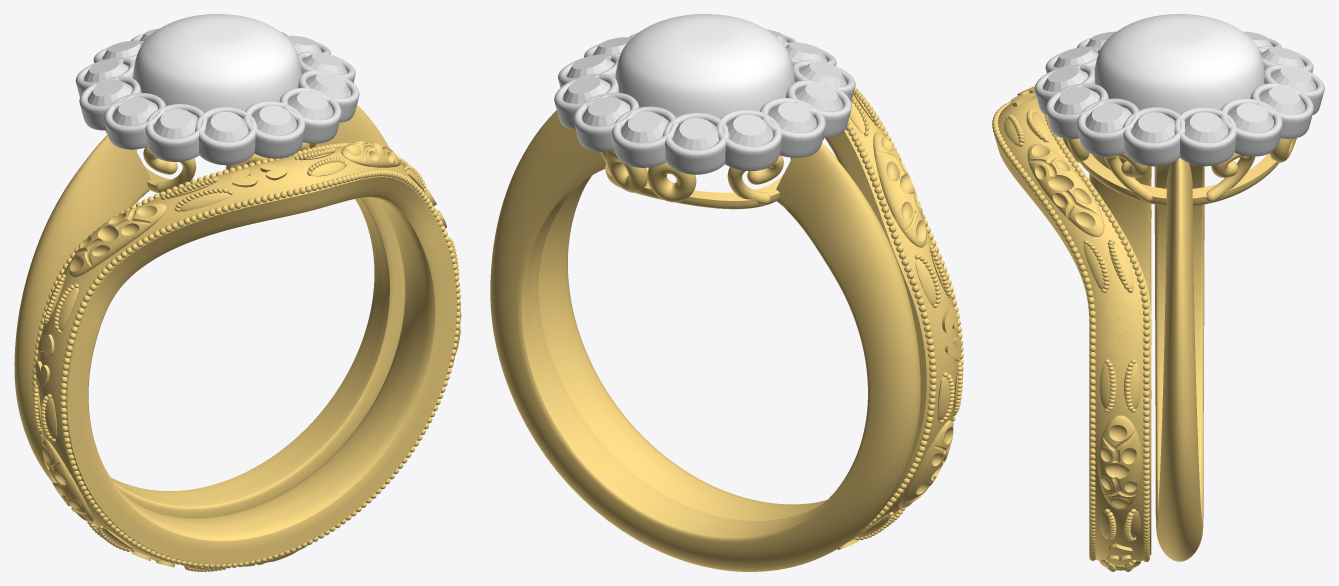
File: SarahWBnewpattern.glb
3 renders of one model, left to right at view 1: azimuth 30°, elevation 25°; view 2: azimuth 150°, elevation 25°; view 3: azimuth 270°, elevation 25°, orthographic. The views are drawn at different scales.
Parts seen in each view (by area): view 1: Sarah YG for 3d model, Sarah opal for 3d model, Sarah PT for 3d model, Sarah dia for 3d model.008, Sarah dia for 3d model.009, Sarah dia for 3d model.007, Sarah dia for 3d model.010, Sarah dia for 3d model.006, Sarah dia for 3d model.011, Sarah dia for 3d model.005, Sarah dia for 3d model.012, Sarah dia for 3d model.004; view 2: Sarah YG for 3d model, Sarah opal for 3d model, Sarah PT for 3d model, Sarah dia for 3d model.013, Sarah dia for 3d model.012, Sarah dia for 3d model, Sarah dia for 3d model.011, Sarah dia for 3d model.001, Sarah dia for 3d model.010, Sarah dia for 3d model.002, Sarah dia for 3d model.009, Sarah dia for 3d model.003; view 3: Sarah YG for 3d model, Sarah opal for 3d model, Sarah PT for 3d model, Sarah dia for 3d model.004, Sarah dia for 3d model.003, Sarah dia for 3d model.002, Sarah dia for 3d model.005, Sarah dia for 3d model.001, Sarah dia for 3d model.006, Sarah dia for 3d model, Sarah dia for 3d model.007, Sarah dia for 3d model.008 (+1 smaller).
Boxes of the visible parts, x1,y1,x2,y2 form: Sarah YG for 3d model: (14,105,461,571); Sarah opal for 3d model: (133,14,301,112); Sarah PT for 3d model: (75,31,359,165); Sarah dia for 3d model.008: (204,112,248,141); Sarah dia for 3d model.009: (153,109,197,138); Sarah dia for 3d model.007: (252,105,296,135); Sarah dia for 3d model.010: (112,97,157,125); Sarah dia for 3d model.006: (288,91,333,119); Sarah dia for 3d model.011: (87,79,132,105); Sarah dia for 3d model.005: (306,72,351,97); Sarah dia for 3d model.012: (84,59,128,82); Sarah dia for 3d model.004: (302,52,347,74); Sarah YG for 3d model: (490,87,963,571); Sarah opal for 3d model: (615,14,794,118); Sarah PT for 3d model: (554,32,855,174); Sarah dia for 3d model.013: (672,118,719,149); Sarah dia for 3d model.012: (726,114,773,146); Sarah dia for 3d model: (621,111,668,142); Sarah dia for 3d model.011: (768,102,816,132); Sarah dia for 3d model.001: (582,96,630,126); Sarah dia for 3d model.010: (795,83,843,111); Sarah dia for 3d model.002: (563,76,610,103); Sarah dia for 3d model.009: (799,62,846,86); Sarah dia for 3d model.003: (566,55,614,78); Sarah YG for 3d model: (992,86,1296,571); Sarah opal for 3d model: (1094,14,1264,114); Sarah PT for 3d model: (1034,38,1324,166); Sarah dia for 3d model.004: (1131,112,1174,142); Sarah dia for 3d model.003: (1185,112,1228,142); Sarah dia for 3d model.002: (1228,103,1274,132); Sarah dia for 3d model.005: (1085,103,1131,132); Sarah dia for 3d model.001: (1259,86,1305,114); Sarah dia for 3d model.006: (1054,87,1099,114); Sarah dia for 3d model: (1271,66,1316,91); Sarah dia for 3d model.007: (1043,67,1088,91); Sarah dia for 3d model.008: (1054,47,1098,67).
Size of the model in its own units: 20.59 by 23.99 by 13.93.
